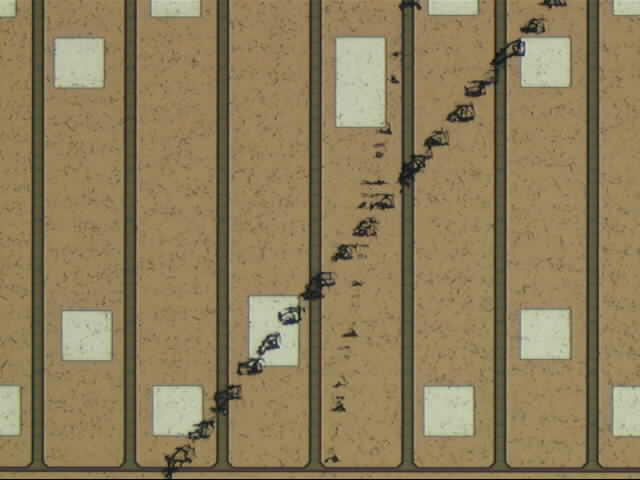SCRATCH: (145, 1, 574, 480)
